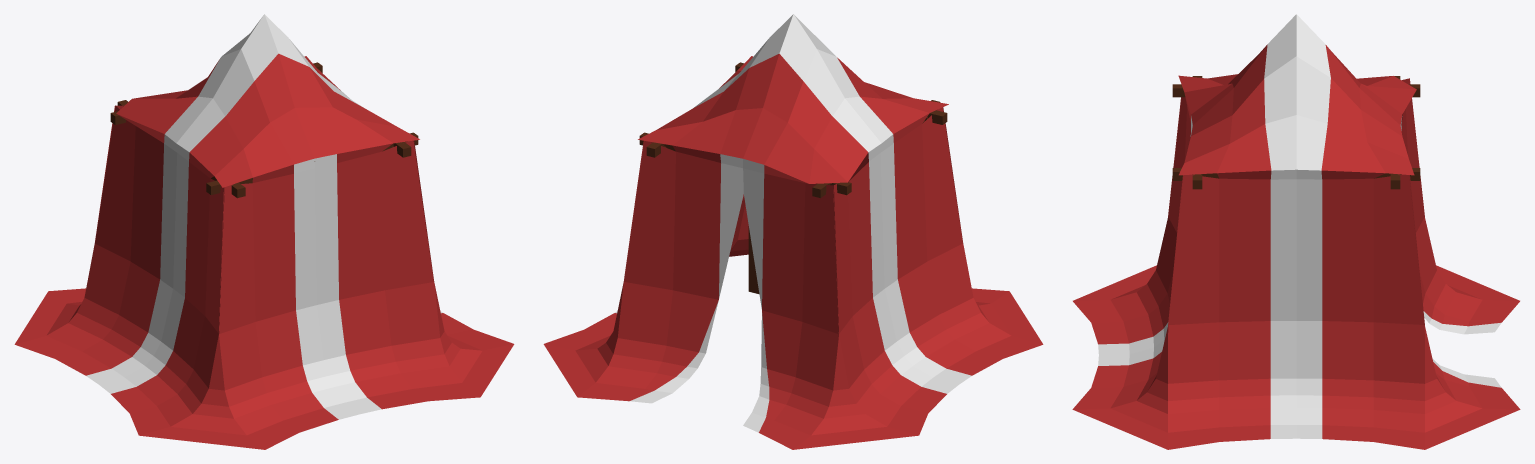
The model's file is TiendaARosacruz.fbx.
The picture shows the model from 3 angles, left to right: view 1: azimuth 30°, elevation 25°; view 2: azimuth 150°, elevation 25°; view 3: azimuth 270°, elevation 25°; orthographic projection. The views are drawn at different scales.
Visible parts, largest first — view 1: Tienda; view 2: Tienda; view 3: Tienda.
Boxes of the visible parts, x1,y1,x2,y2 form: Tienda: (14, 14, 514, 449); Tienda: (543, 14, 1043, 449); Tienda: (1072, 14, 1520, 449).
Size of the model in its own units: 453 by 382 by 453.
